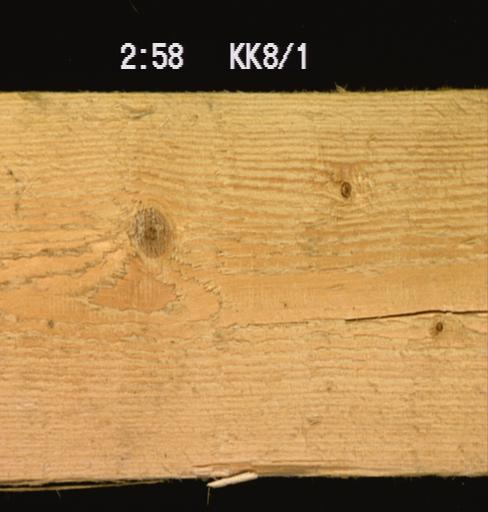dry_knot: (337, 179, 351, 199), (433, 319, 444, 332)
sound_knot: (132, 204, 169, 259)
split: (342, 307, 487, 321)
wave: (189, 459, 417, 489)
